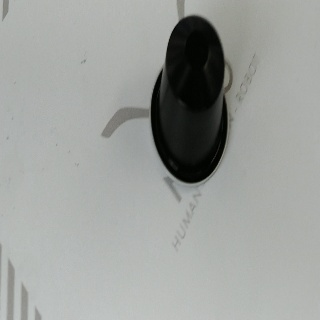capsule_10: (149, 13, 229, 187)
